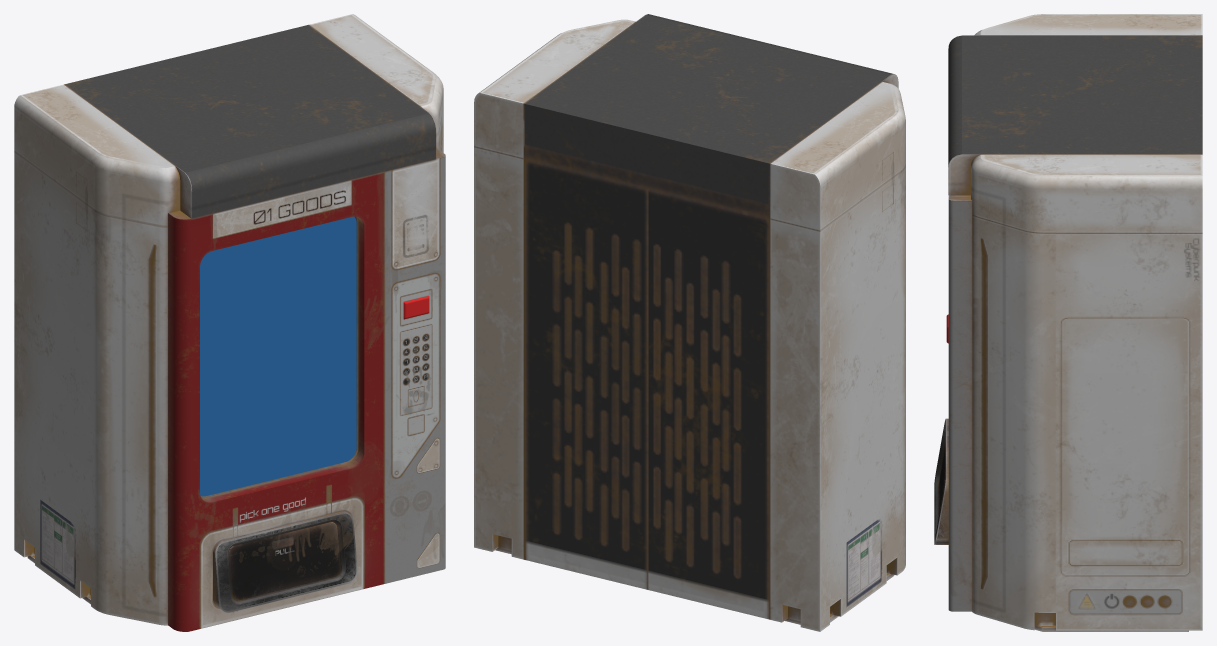
Rendered from uploads_files_2135669_SM_VendingMachine02.FBX.
The picture shows the model from 3 angles, left to right: view 1: azimuth 30°, elevation 25°; view 2: azimuth 150°, elevation 25°; view 3: azimuth 270°, elevation 25°; orthographic projection.
Parts seen in each view (by area): view 1: SM_VendingMachine02; view 2: SM_VendingMachine02; view 3: SM_VendingMachine02.
Boxes of the visible parts, x1=… form: SM_VendingMachine02: x1=14, y1=14, x2=445, y2=631; SM_VendingMachine02: x1=474, y1=14, x2=905, y2=631; SM_VendingMachine02: x1=934, y1=14, x2=1202, y2=631.
Size of the model in its own units: 183 by 232 by 124.
